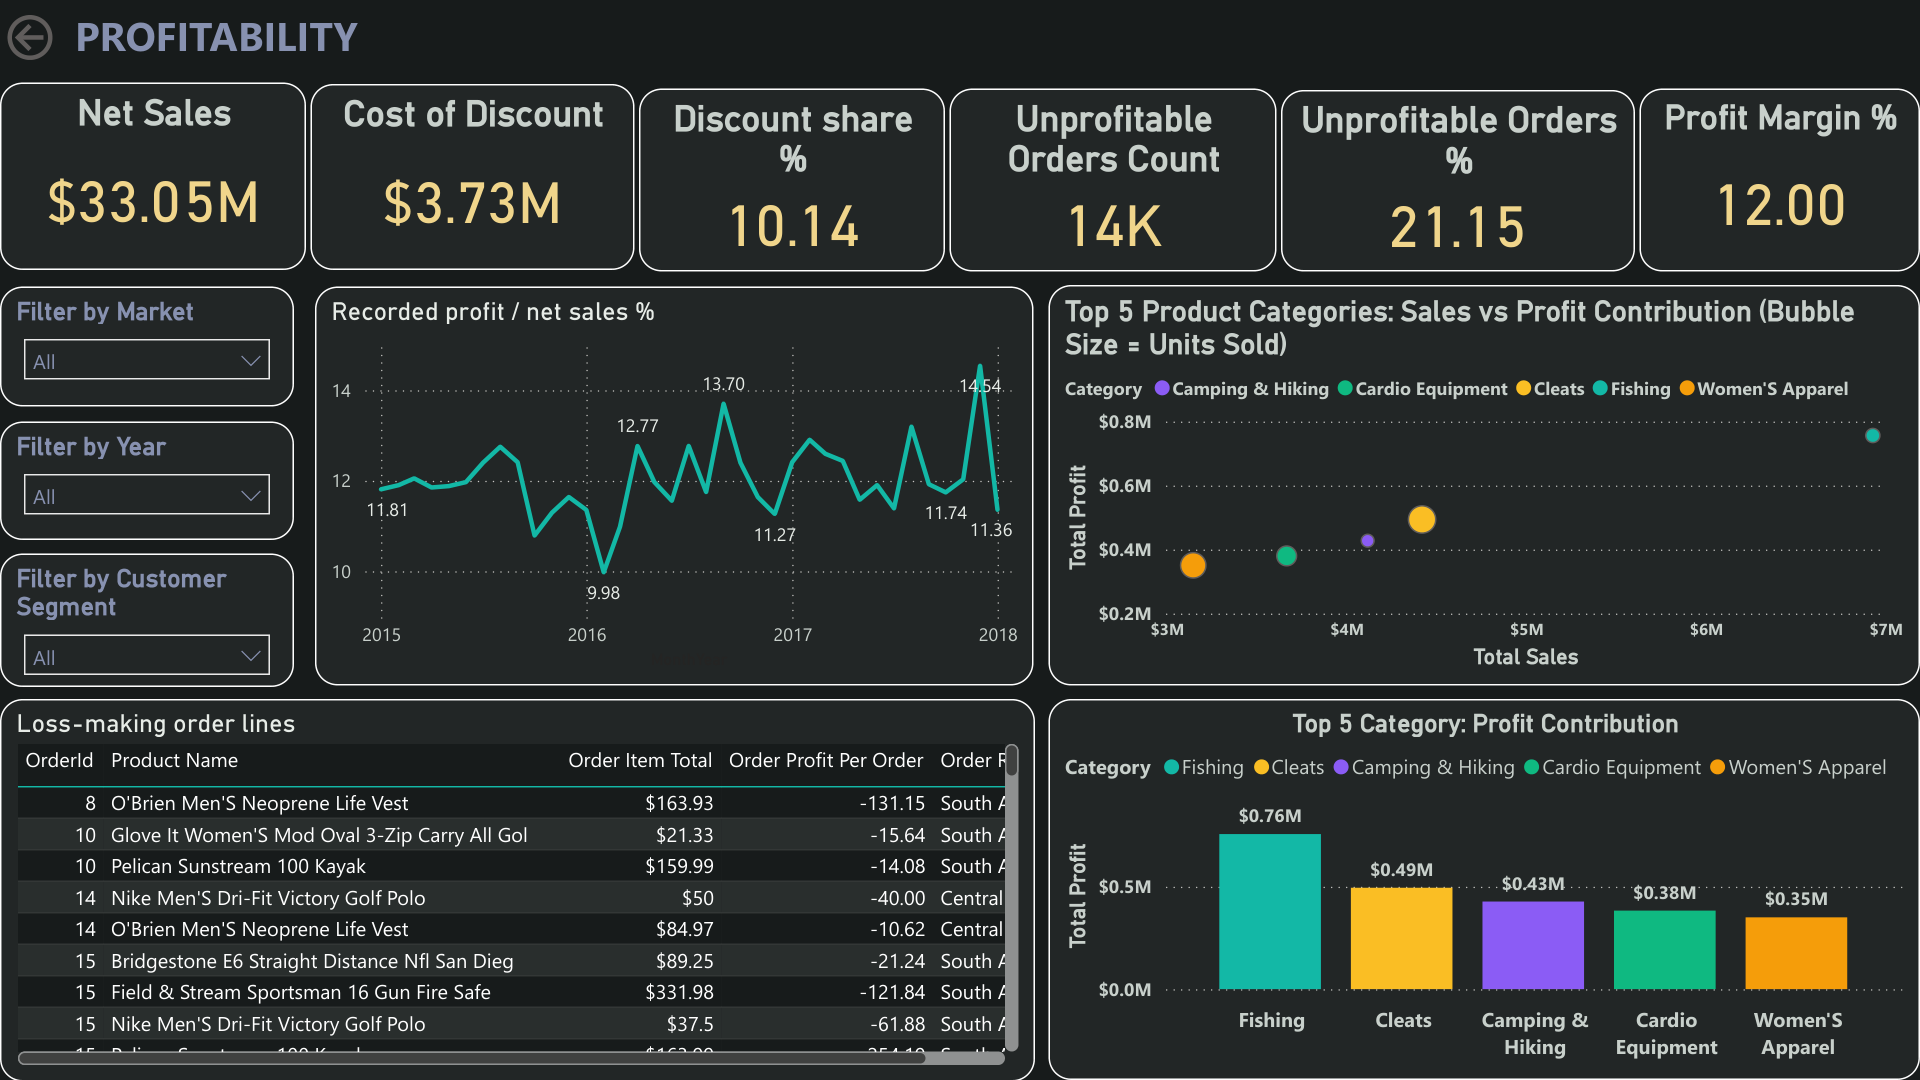

The page's visual inventory and layout, read from the dashboard file:
{"tool":"powerbi","page":{"name":"Profitability","canvas":[1280,720],"ordinal":6},"visuals":[{"type":"card","title":"Net Sales","fields":{"Values":["FactOrderItem.Net Sales"]},"box":[0,55.5,203.6,124.5],"z":0},{"type":"card","title":"Cost of Discount","fields":{"Values":["FactOrderItem.Cost of Discounts"]},"box":[207.1,55.7,215.7,124.3],"z":1000},{"type":"card","title":"Discount share %","fields":{"Values":["FactOrderItem.Profit Leakage Index"]},"box":[425.7,58.6,204.3,122.9],"z":2000},{"type":"lineChart","title":"Recorded profit / net sales %","fields":{"Category":["DimDate.MonthYear"],"Y":["FactOrderItem.Profit Margin %"]},"box":[210,191.1,478.9,265.6],"z":3000},{"type":"tableEx","title":"Loss-making order lines","fields":{"Values":["FactOrderItem.OrderId","DimProduct.ProductName","FactOrderItem.OrderItemTotal","FactOrderItem.OrderProfitPerOrder","DimLocation.OrderRegion"]},"box":[0,466.3,689.5,254.7],"z":4000},{"type":"textbox","box":[45,0,220,46.2],"z":5000},{"type":"slicer","title":"Filter by Market","fields":{"Values":["DimLocation.Market"]},"box":[0,191.2,196.2,80],"z":6000},{"type":"slicer","title":"Filter by Year","fields":{"Values":["DimDate.Year"]},"box":[0,281.2,196.2,78.8],"z":7000},{"type":"slicer","title":"Filter by Customer Segment","fields":{"Values":["DimCustomer.CustomerSegment"]},"box":[0,368.8,196.2,88.8],"z":8000},{"type":"scatterChart","title":"Top 5 Product Categories: Sales vs Profit Contribution (Bubble Size = Units Sold)","fields":{"X":["FactOrderItem.Total Sales"],"Y":["FactOrderItem.Total Profit"],"Size":["FactOrderItem.Total Order Quantity"],"Series":["DimProduct.CategoryName"]},"box":[698.9,190,581.1,266.7],"z":9000},{"type":"card","title":"Unprofitable Orders %","fields":{"Values":["FactOrderItem.Unprofitable Orders %"]},"box":[854.3,60,235.7,121.4],"z":10000},{"type":"card","title":"Unprofitable Orders Count","fields":{"Values":["FactOrderItem.Unprofitable Orders Count"]},"box":[632.9,58.6,218.6,122.9],"z":11000},{"type":"card","title":"Profit Margin %","fields":{"Values":["FactOrderItem.Profit Margin %"]},"box":[1092.5,58.8,187.5,122.5],"z":12000},{"type":"columnChart","title":"Top 5 Category: Profit Contribution","fields":{"Category":["DimProduct.CategoryName"],"Y":["FactOrderItem.Total Profit"],"Series":["DimProduct.CategoryName"]},"box":[698.8,466.3,581.4,253.5],"z":13000},{"type":"actionButton","box":[0,5,100,40],"z":14000}]}

Visuals, with their boxes in screenshot pixels (x1, y1, x2, y2), scaled from the page's 1280x720 canvas onto the 1920x1080 screenshot:
"Net Sales" card: bbox=(0, 83, 305, 270)
"Cost of Discount" card: bbox=(311, 84, 634, 270)
"Discount share %" card: bbox=(639, 88, 945, 272)
"Recorded profit / net sales %" lineChart: bbox=(315, 287, 1033, 685)
"Loss-making order lines" tableEx: bbox=(0, 699, 1034, 1079)
textbox: bbox=(68, 0, 398, 69)
"Filter by Market" slicer: bbox=(0, 287, 294, 407)
"Filter by Year" slicer: bbox=(0, 422, 294, 540)
"Filter by Customer Segment" slicer: bbox=(0, 553, 294, 686)
"Top 5 Product Categories: Sales vs Profit Contribution (Bubble Size = Units Sold)" scatterChart: bbox=(1048, 285, 1919, 685)
"Unprofitable Orders %" card: bbox=(1281, 90, 1635, 272)
"Unprofitable Orders Count" card: bbox=(949, 88, 1277, 272)
"Profit Margin %" card: bbox=(1639, 88, 1919, 272)
"Top 5 Category: Profit Contribution" columnChart: bbox=(1048, 699, 1919, 1079)
actionButton: bbox=(0, 8, 150, 68)
